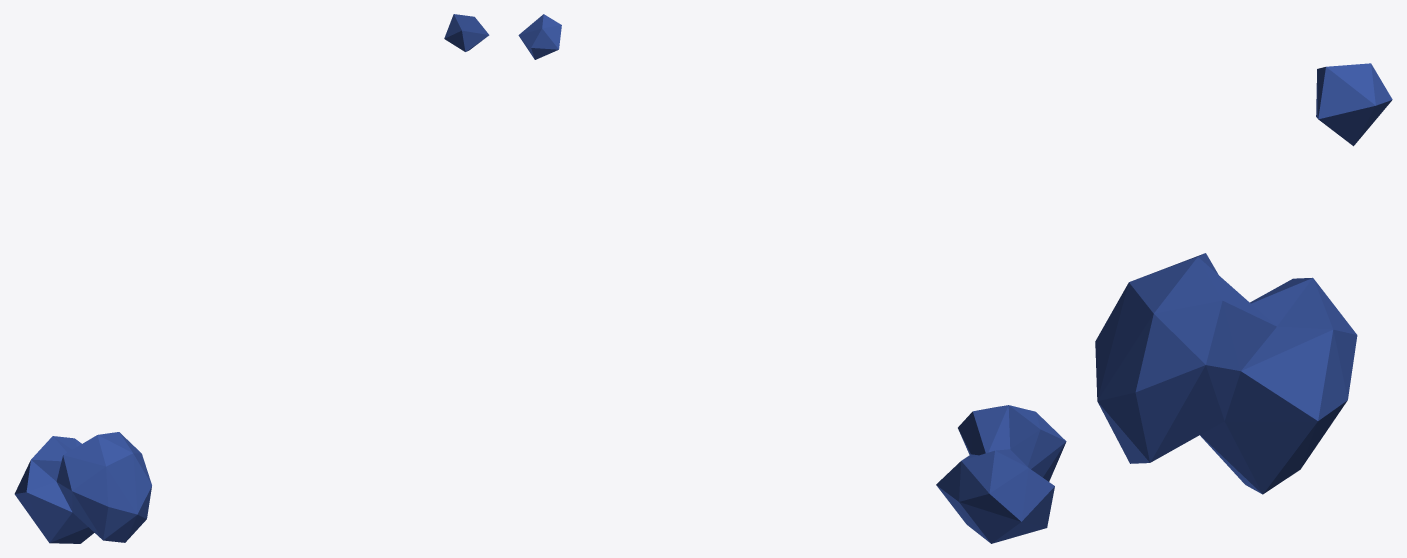
File: island3_stone4.obj
3 views of the same model, side by side, from view 1: azimuth 30°, elevation 25°; view 2: azimuth 150°, elevation 25°; view 3: azimuth 270°, elevation 25° (orthographic). The views are drawn at different scales.
Visible parts, largest first — view 1: Icosphere.000_Icosphere.009; view 2: Icosphere.000_Icosphere.009; view 3: Icosphere.000_Icosphere.009.
Boxes of the visible parts, box(x1,y1,x2,y2) form: Icosphere.000_Icosphere.009: box(14, 14, 489, 543); Icosphere.000_Icosphere.009: box(518, 14, 1066, 543); Icosphere.000_Icosphere.009: box(1095, 63, 1392, 494).
Size of the model in its own units: 11.59 by 9.5 by 3.11.
